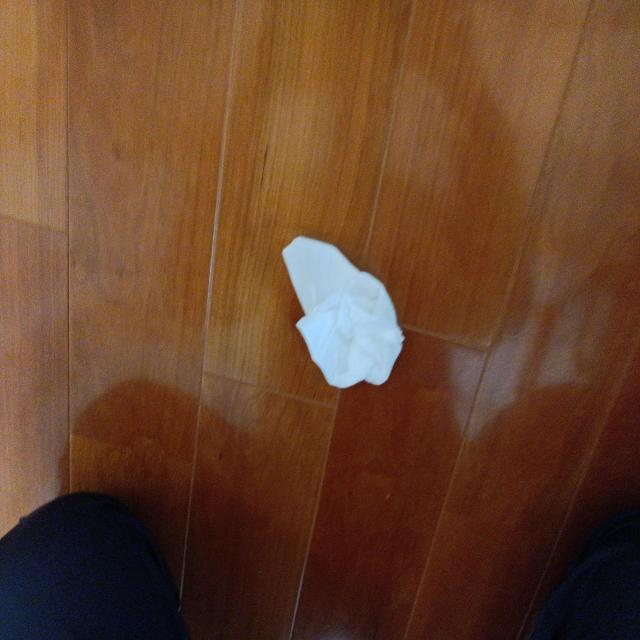Paper: (244, 228, 412, 394)
